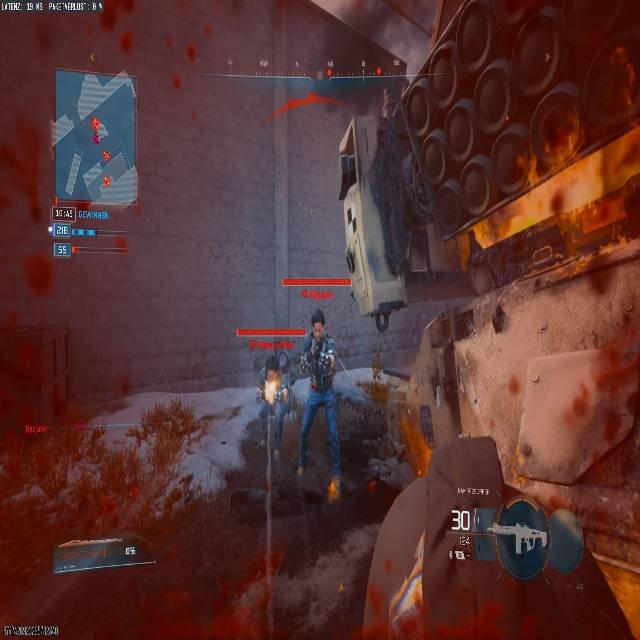head: (310, 309, 326, 337)
player: (271, 310, 341, 506)
